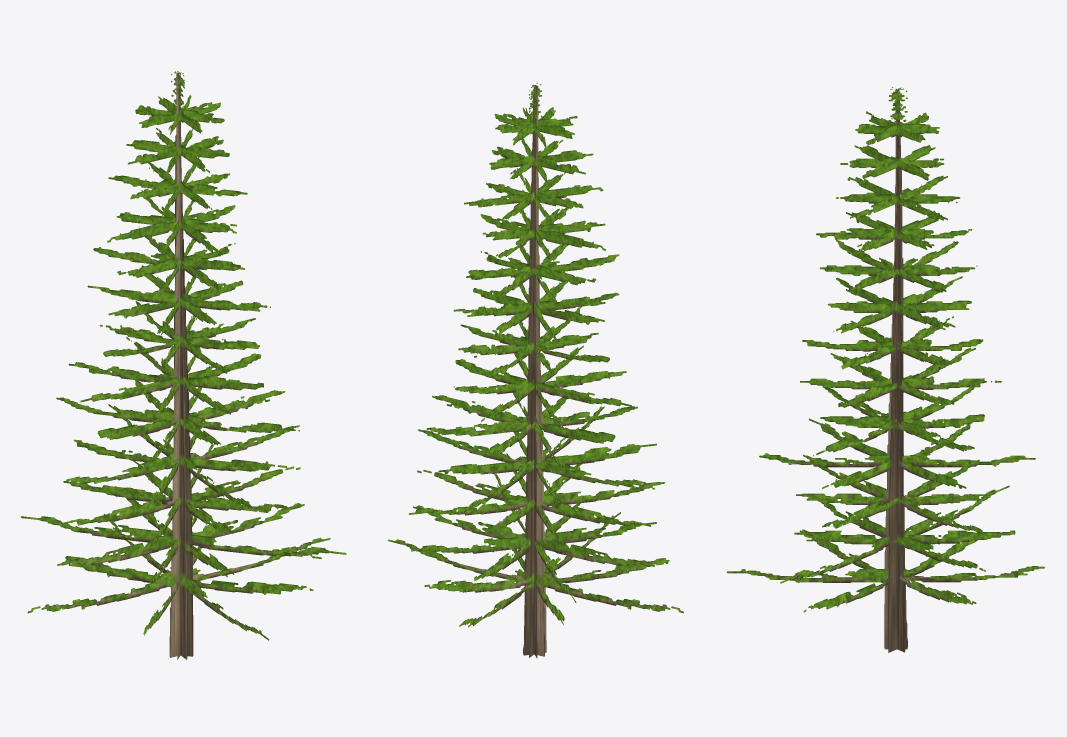
The model's file is asset.glb.
The picture shows the model from 3 angles, left to right: view 1: azimuth 30°, elevation 25°; view 2: azimuth 150°, elevation 25°; view 3: azimuth 270°, elevation 25°; orthographic projection. The views are drawn at different scales.
Parts seen in each view (by area): view 1: BackgroundTree; view 2: BackgroundTree; view 3: BackgroundTree.
Part boxes in pixels (<box>): BackgroundTree: <box>21,71,346,659</box>; BackgroundTree: <box>387,82,683,658</box>; BackgroundTree: <box>726,87,1044,652</box>.
Size of the model in its own units: 1.4 by 2.45 by 1.32.
1 material, 1 textured.
